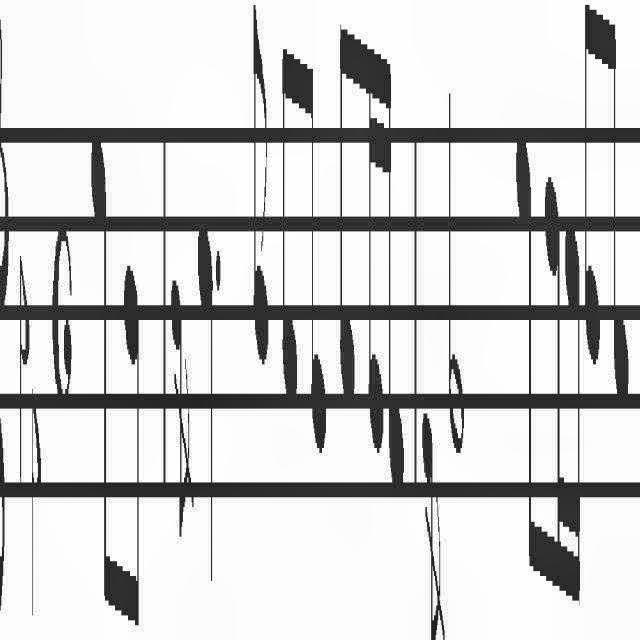Bass-clef: (0, 0, 10, 624)
Bemol: (30, 379, 42, 631), (18, 242, 30, 490)
Eighth-note: (300, 34, 328, 460), (89, 120, 111, 638), (514, 125, 538, 589), (604, 0, 628, 404), (120, 240, 140, 640), (280, 38, 300, 418), (338, 15, 356, 412), (251, 0, 269, 368), (584, 4, 600, 372)
Half-note: (446, 78, 466, 460)
Quarter-note: (194, 216, 213, 610)
Sixteenth-note: (385, 16, 405, 496), (364, 24, 384, 462), (545, 166, 563, 586), (565, 213, 583, 612)
